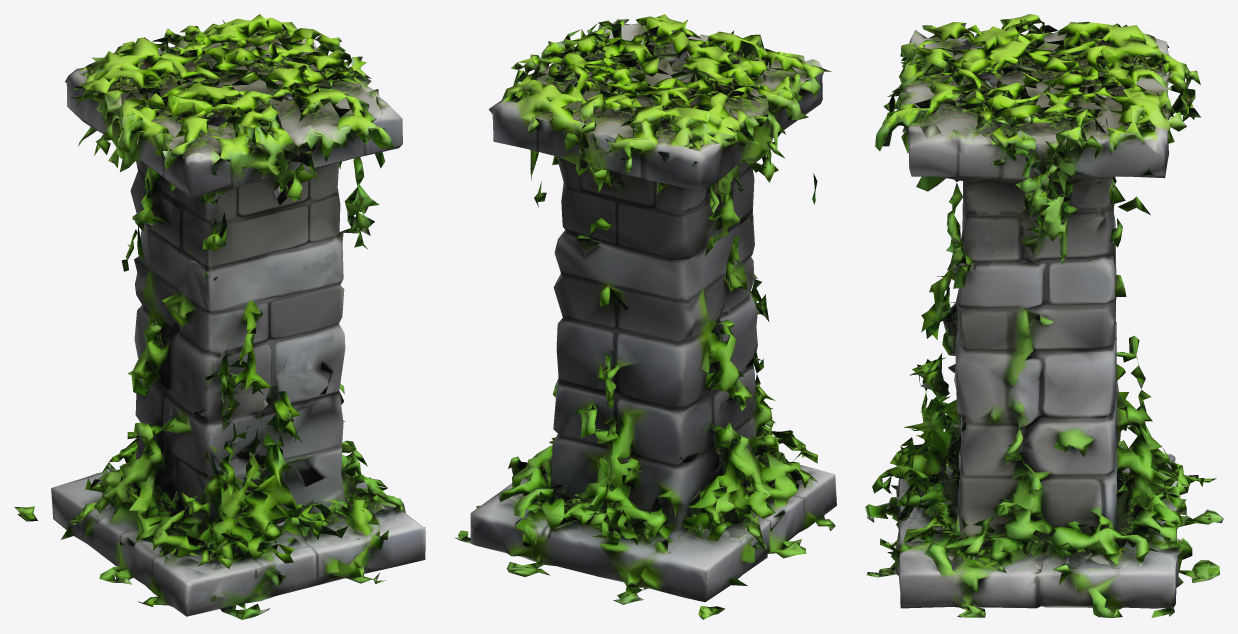
The model's file is Verdant_Pillar_1116030705_texture.glb.
3 renders of one model, left to right at view 1: azimuth 30°, elevation 25°; view 2: azimuth 150°, elevation 25°; view 3: azimuth 270°, elevation 25°, orthographic. The views are drawn at different scales.
Size of the model in its own units: 1.23 by 1.89 by 1.27.
Materials: 1 (1 with a texture image).
